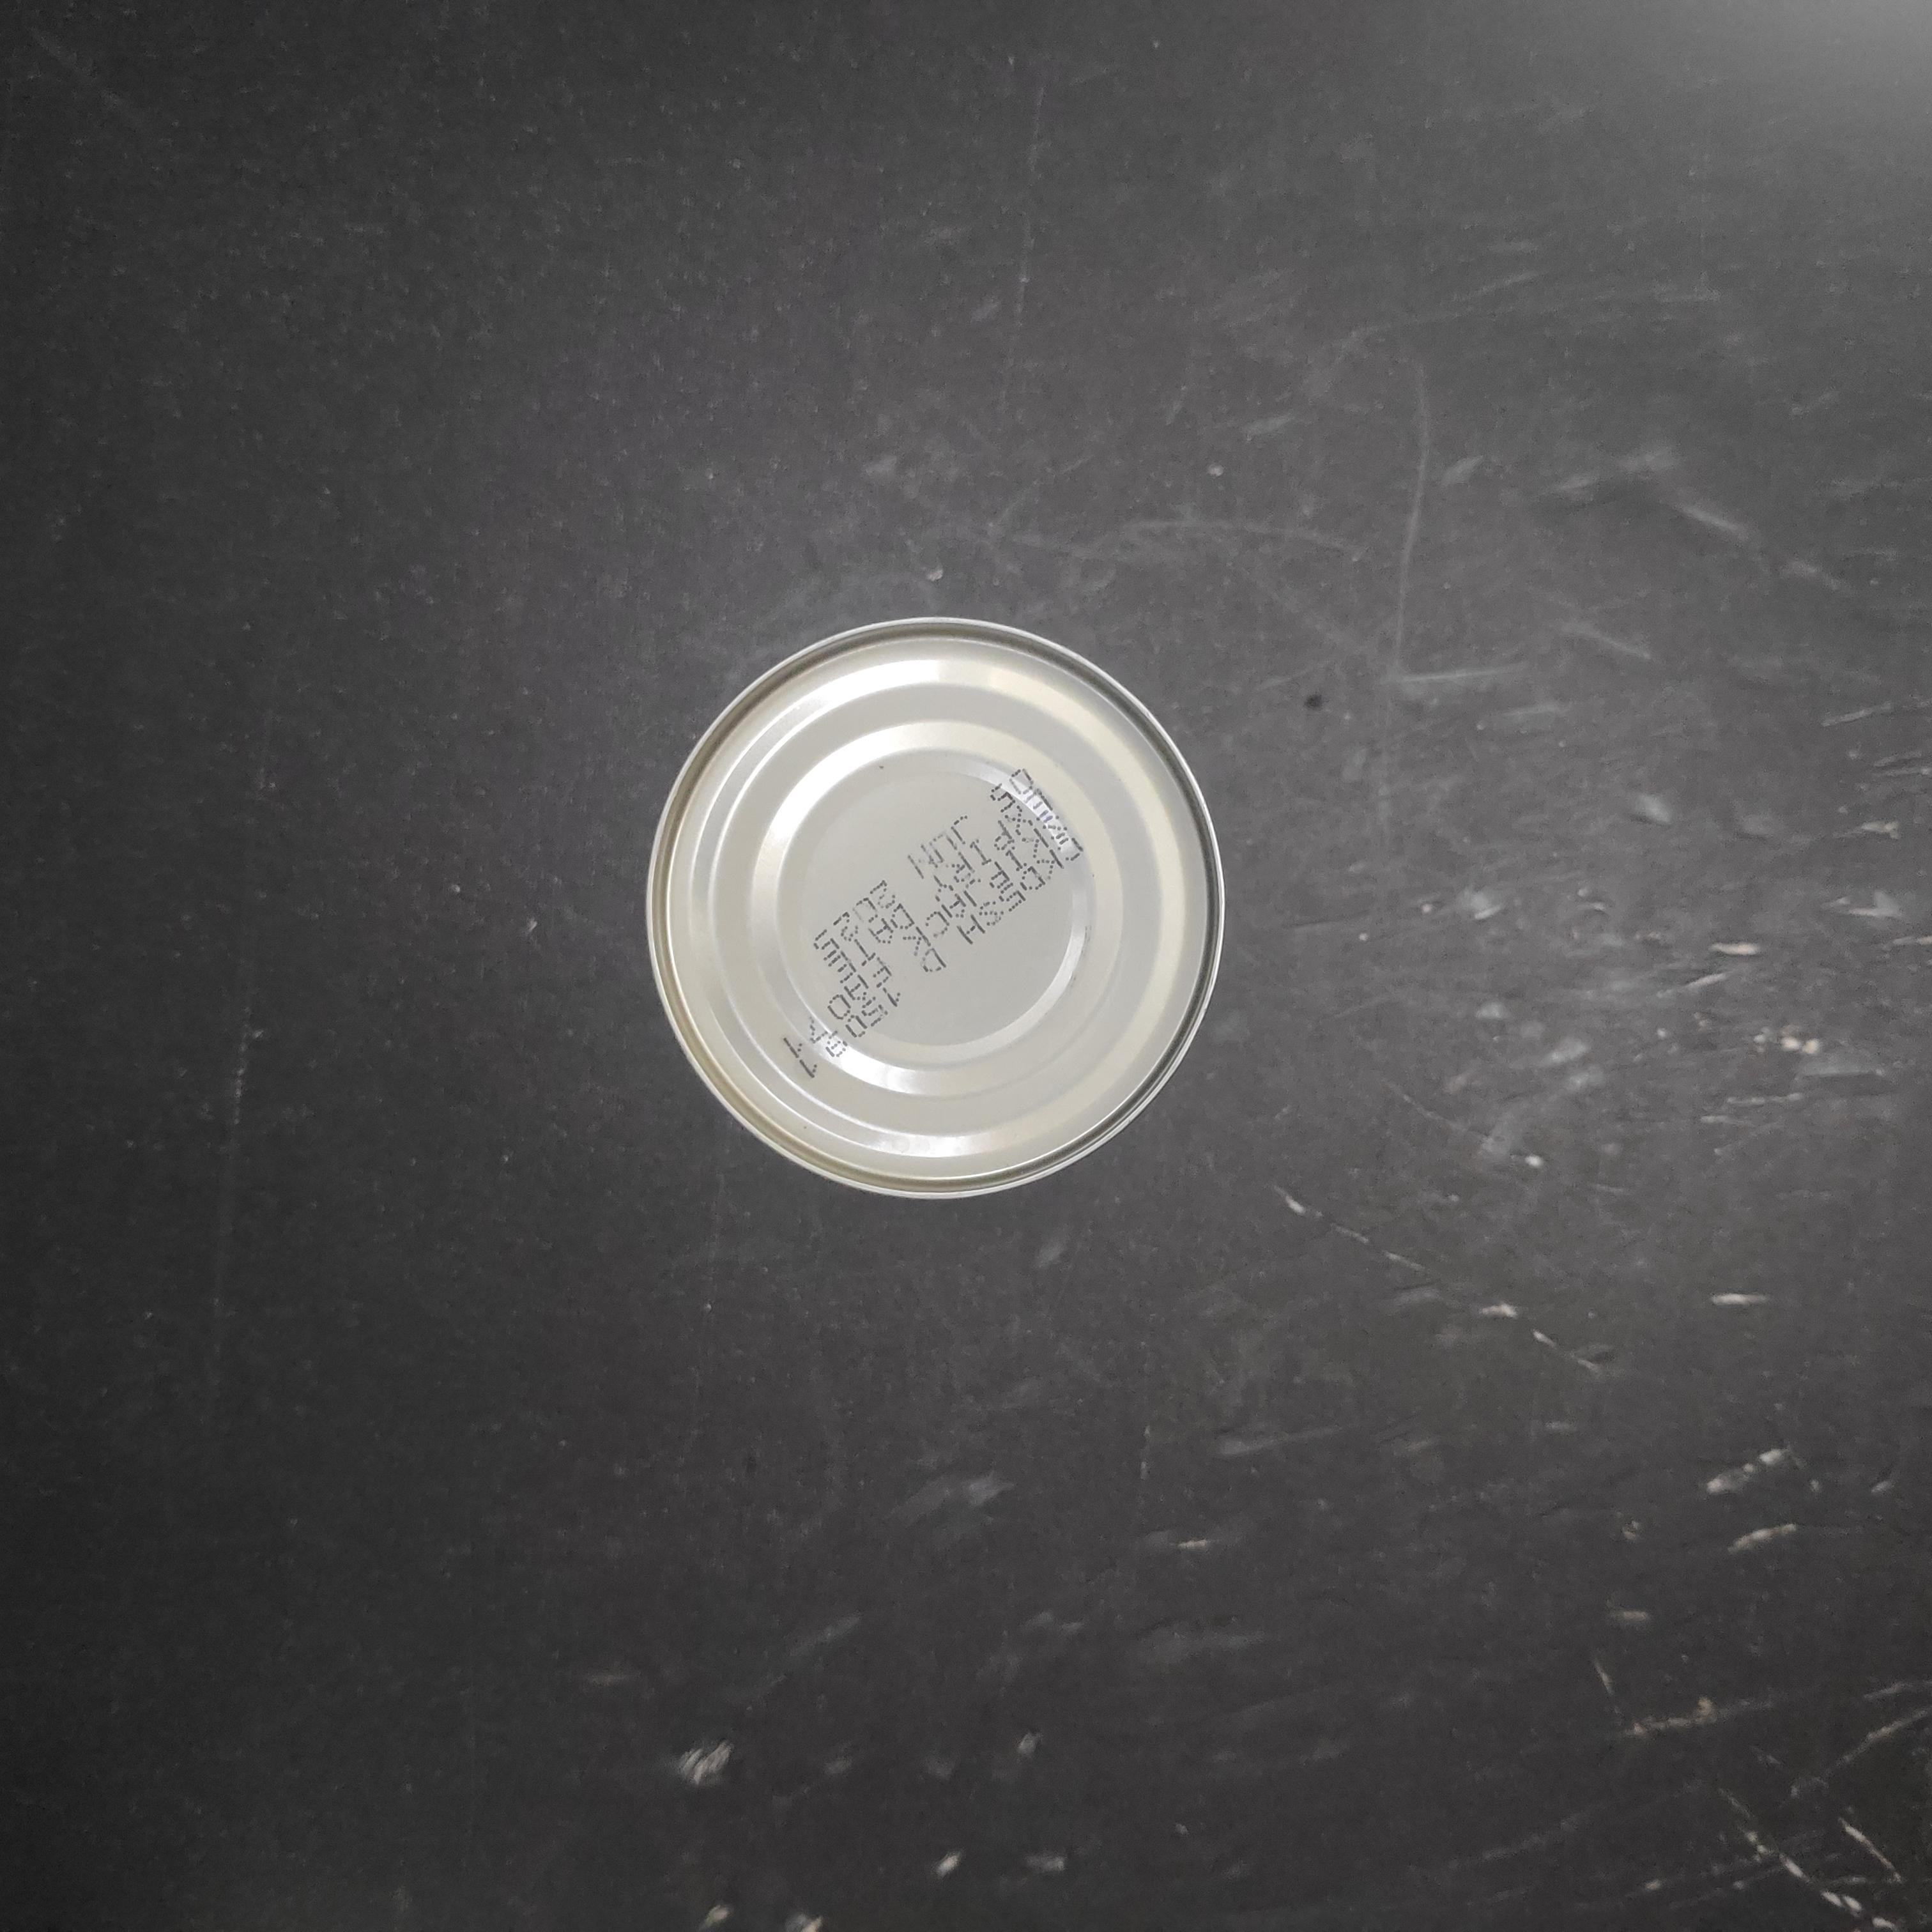No defect: (707, 732, 1292, 1318)
